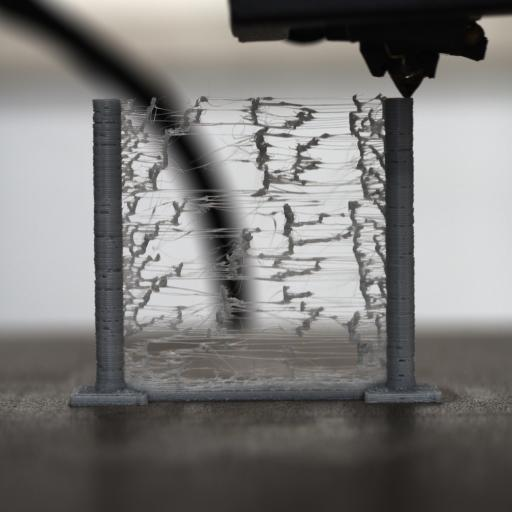stringing: (109, 93, 376, 393)
